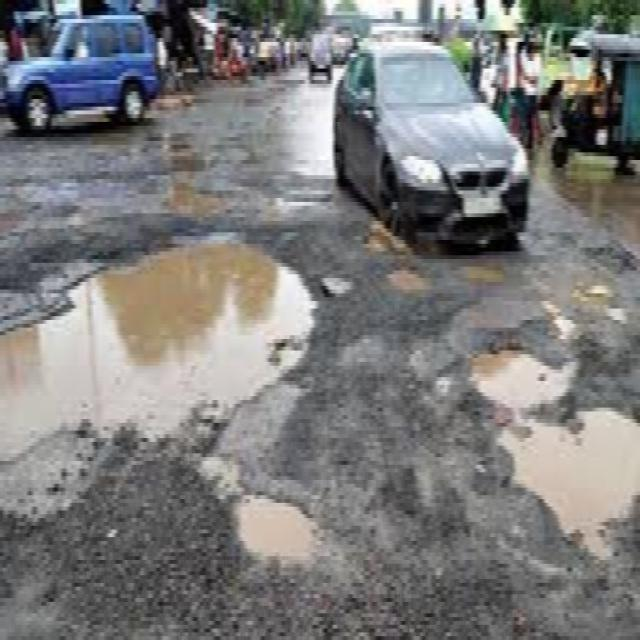Pothole: (0, 223, 332, 476), (457, 326, 640, 573), (140, 123, 260, 225), (215, 481, 332, 568), (353, 221, 413, 257), (320, 270, 372, 300), (456, 260, 510, 288), (386, 266, 433, 296)
